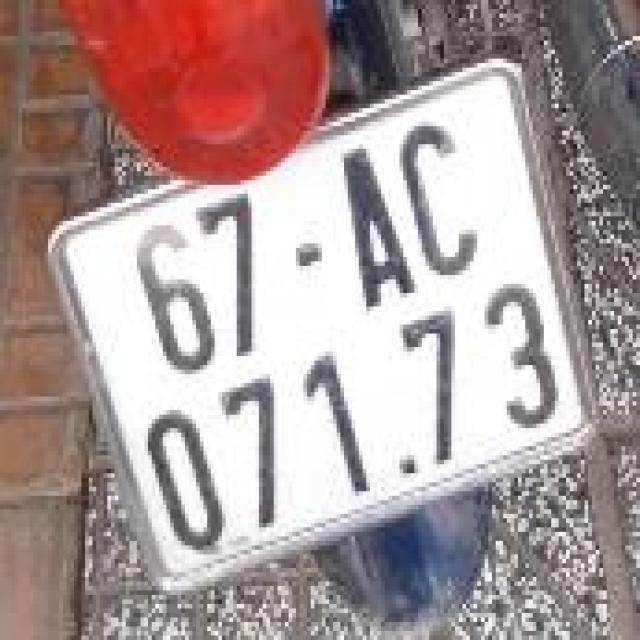0: (133, 392, 243, 567)
1: (283, 332, 386, 506)
3: (474, 273, 582, 447)
6: (123, 212, 228, 396)
7: (389, 299, 499, 479), (185, 187, 291, 373), (211, 366, 312, 538)
A: (324, 134, 430, 323)
C: (391, 108, 494, 295)
